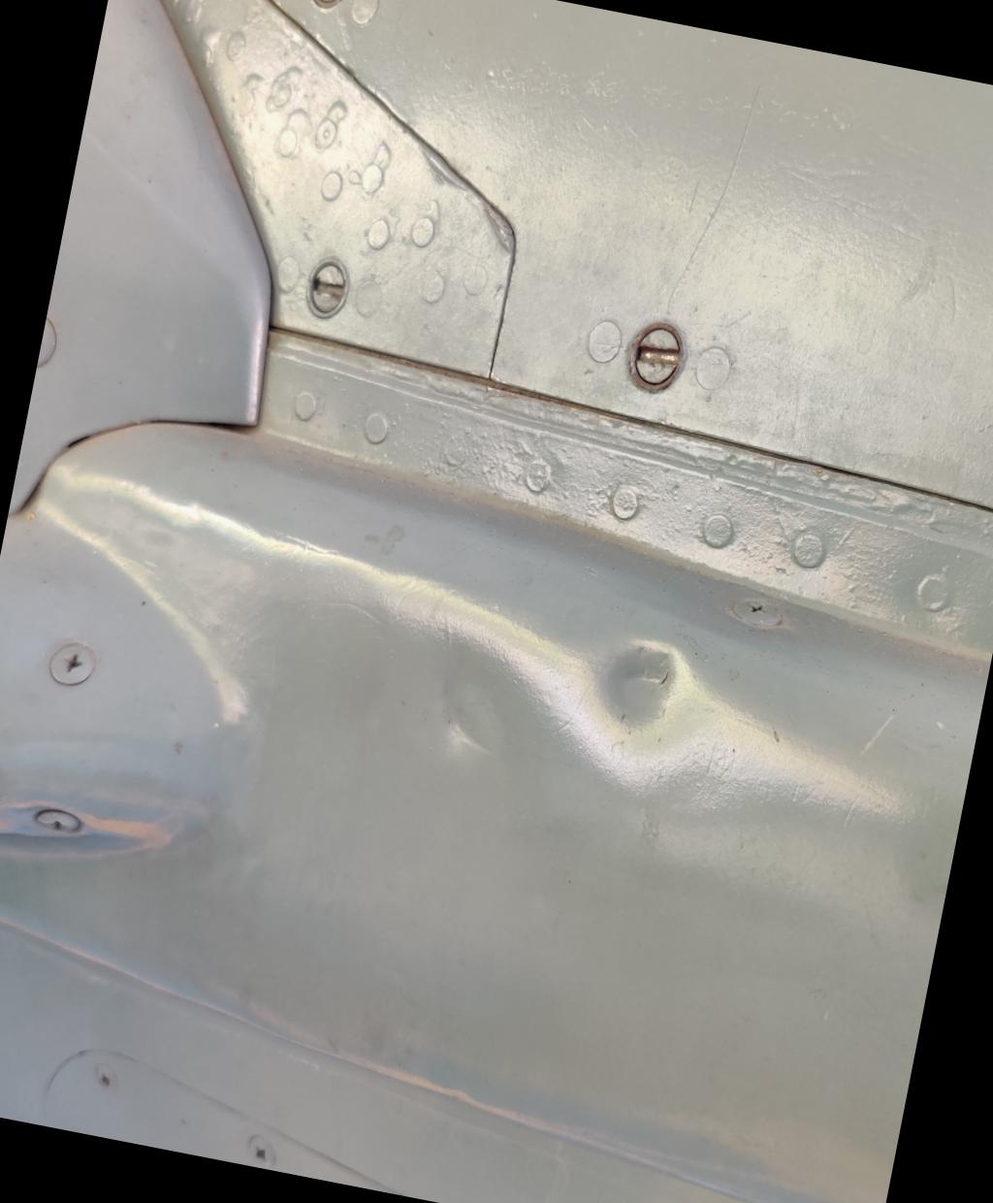dent: (553, 585, 737, 774), (403, 668, 532, 798)
